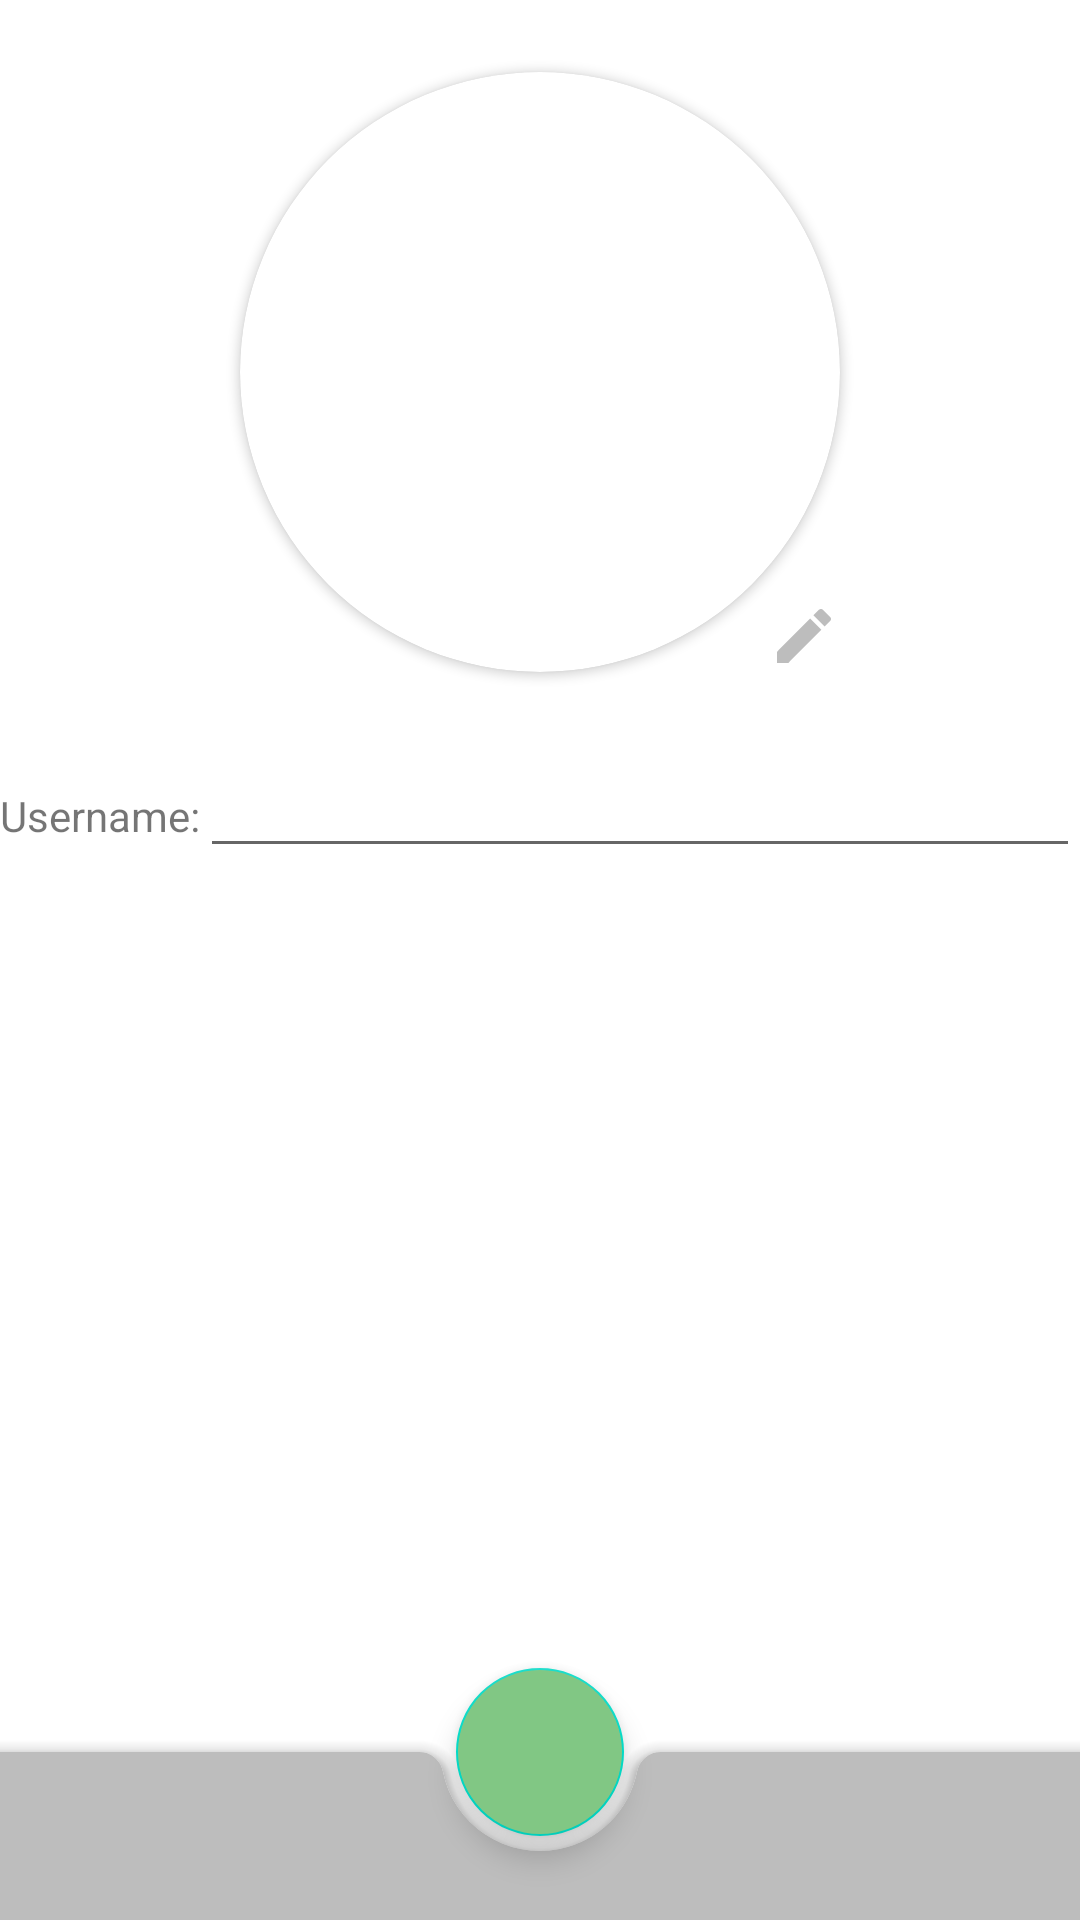

Locate icon controls on the screen. Image size 1080*1920, boxes as box=[x1, y1, x2, y2].
edit primarydark: box=[777, 609, 831, 663]
